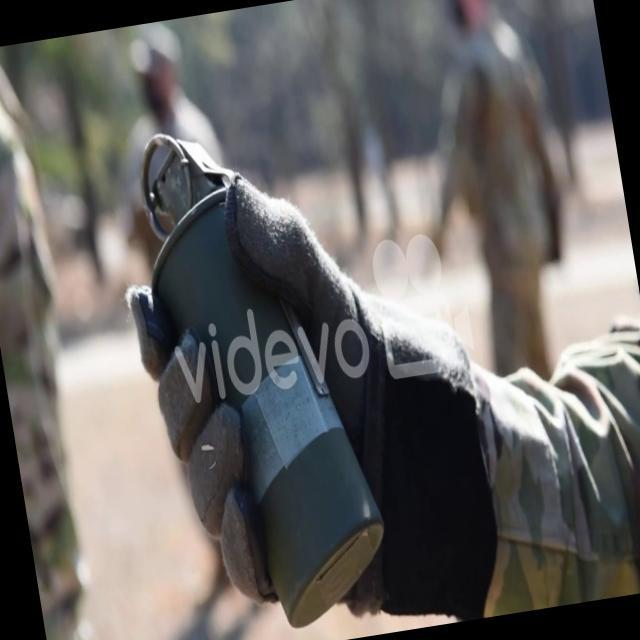grenade: (113, 107, 393, 640)
